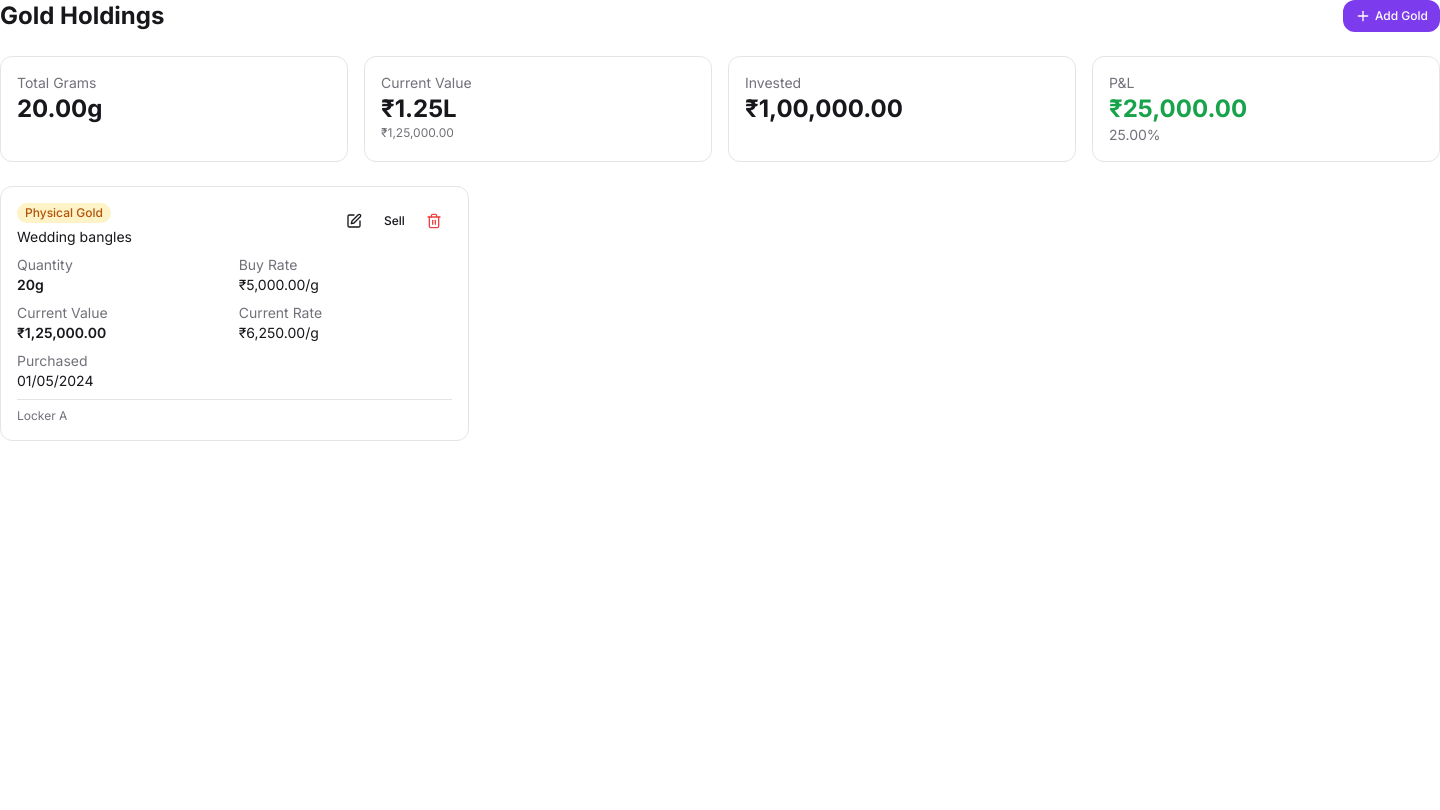
Test: Gold page — recording a sale › opens a sale confirmation, and delete still works alongside it
The image size is (1440, 810).
Expected: the text "Wedding bangles" is shown, [17,227,132,247]
Expected: the button titled "delete" is shown, [416,203,452,239]
Click the button "Sell". click: (394,221)
box: [376,203,412,239]
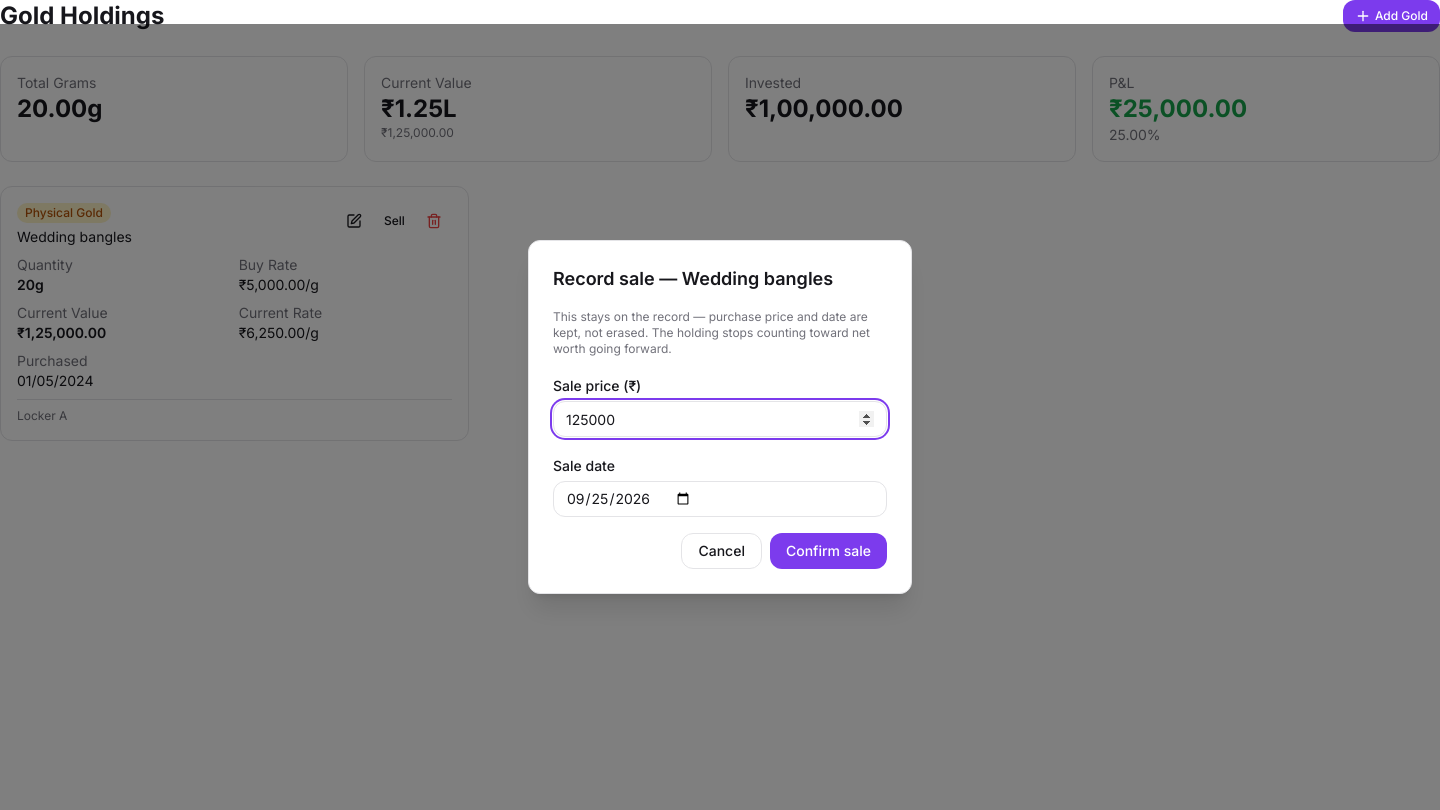
Now the heading "Record sale — Wedding bangles" is shown, box [553,268,833,289]
